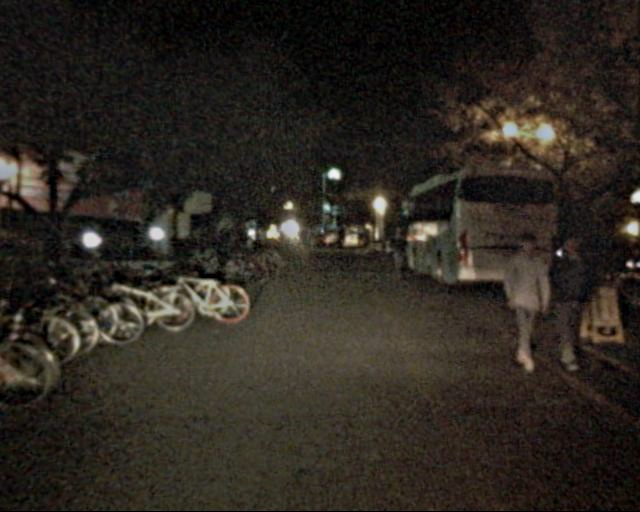person: (543, 234, 598, 367), (498, 234, 552, 366), (386, 224, 412, 288), (255, 227, 270, 263)
